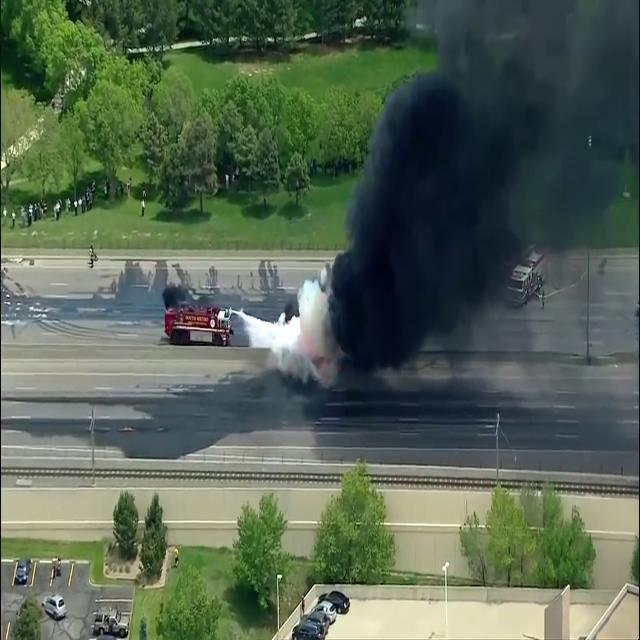Smoke: (333, 1, 638, 395), (268, 264, 340, 396)
